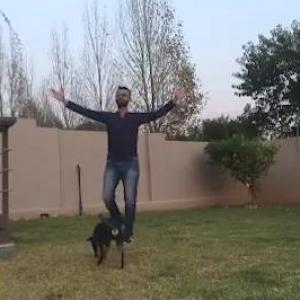takeoff: (53, 73, 189, 246)
